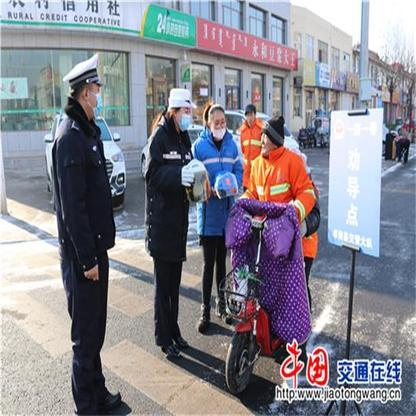target: (223, 115, 331, 398)
